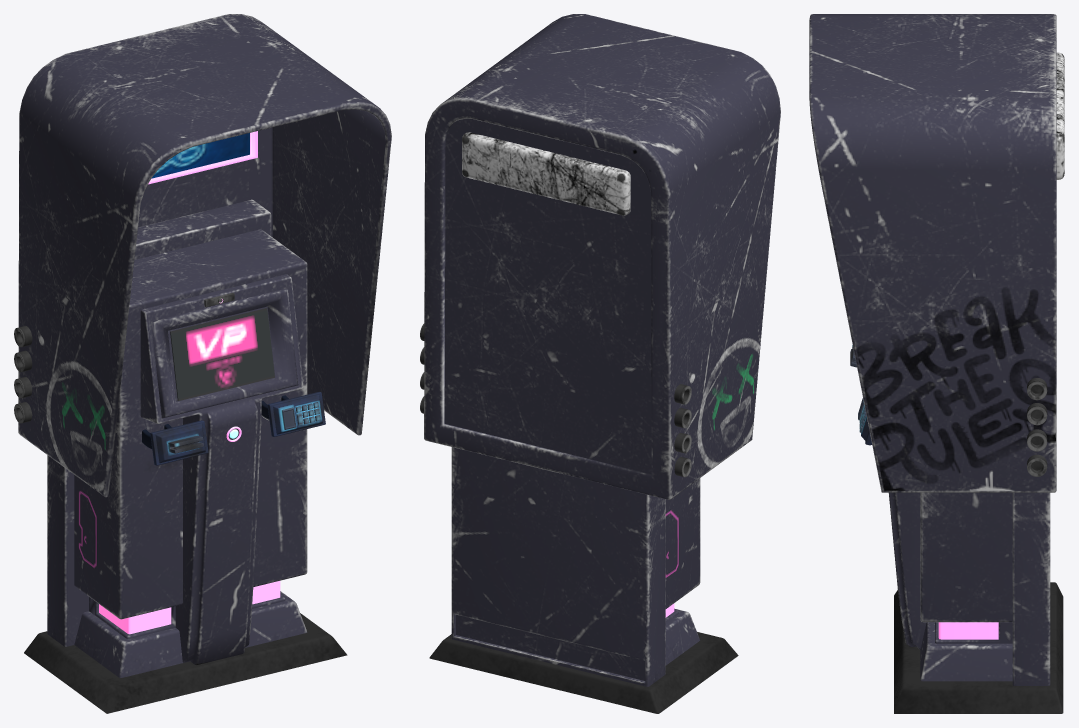
Rendered from video_phone_cyberpunk.glb.
The picture shows the model from 3 angles, left to right: view 1: azimuth 30°, elevation 25°; view 2: azimuth 150°, elevation 25°; view 3: azimuth 270°, elevation 25°; orthographic projection. The views are drawn at different scales.
Parts seen in each view (by area): view 1: Cubierta_high, Video.phone_high, Pantalla_high, Teclado.tarjeta_high, Cylinder006_high, Teclado_high; view 2: Cubierta_high, Video.phone_high, Cylinder006_high; view 3: Cubierta_high, Video.phone_high, Cylinder006_high.
Boxes of the visible parts, bbox=[...] form: Cubierta_high: bbox=[18, 14, 391, 497]; Video.phone_high: bbox=[24, 131, 347, 713]; Pantalla_high: bbox=[170, 308, 274, 400]; Teclado.tarjeta_high: bbox=[150, 392, 325, 465]; Cylinder006_high: bbox=[14, 326, 32, 423]; Teclado_high: bbox=[281, 402, 320, 429]; Cubierta_high: bbox=[424, 14, 780, 499]; Video.phone_high: bbox=[429, 132, 738, 713]; Cylinder006_high: bbox=[420, 323, 691, 477]; Cubierta_high: bbox=[809, 14, 1056, 492]; Video.phone_high: bbox=[888, 52, 1064, 713]; Cylinder006_high: bbox=[1027, 378, 1047, 476].
Size of the model in its own units: 0.9459 by 1.95 by 0.7556.
1 material, 1 textured.
